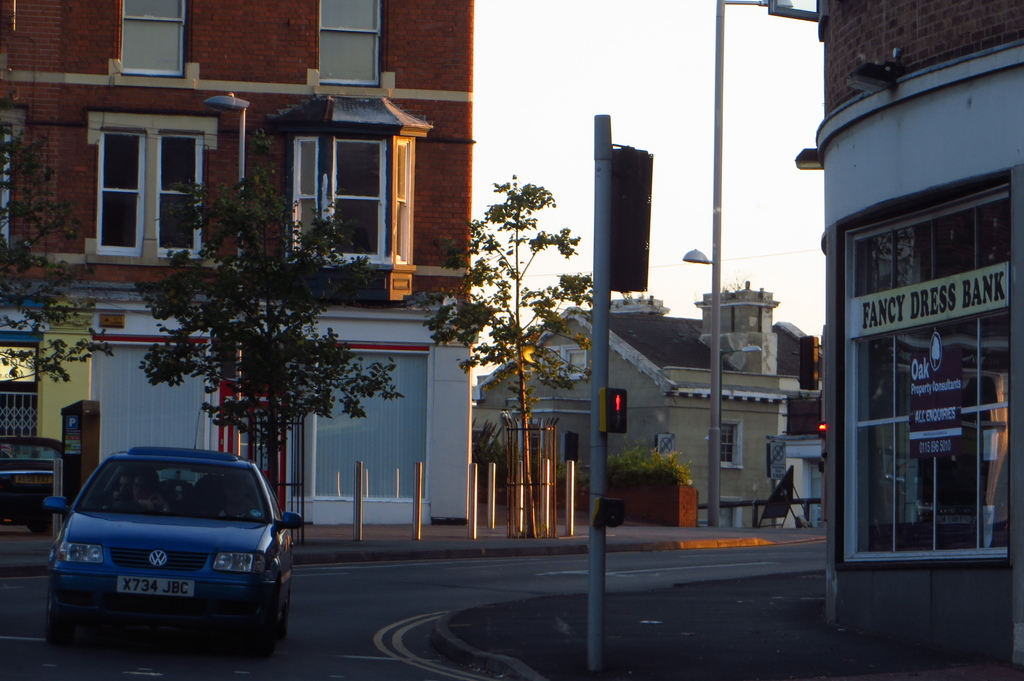Car: (32, 447, 288, 657)
